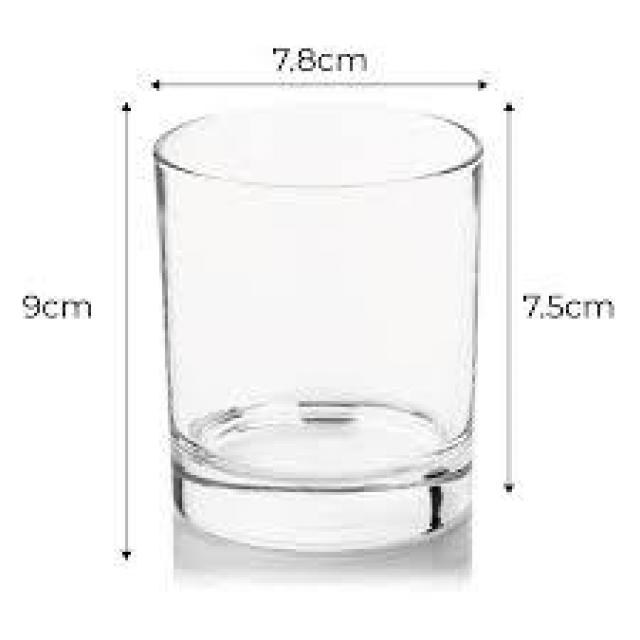non-organic waste: (149, 102, 485, 552)
